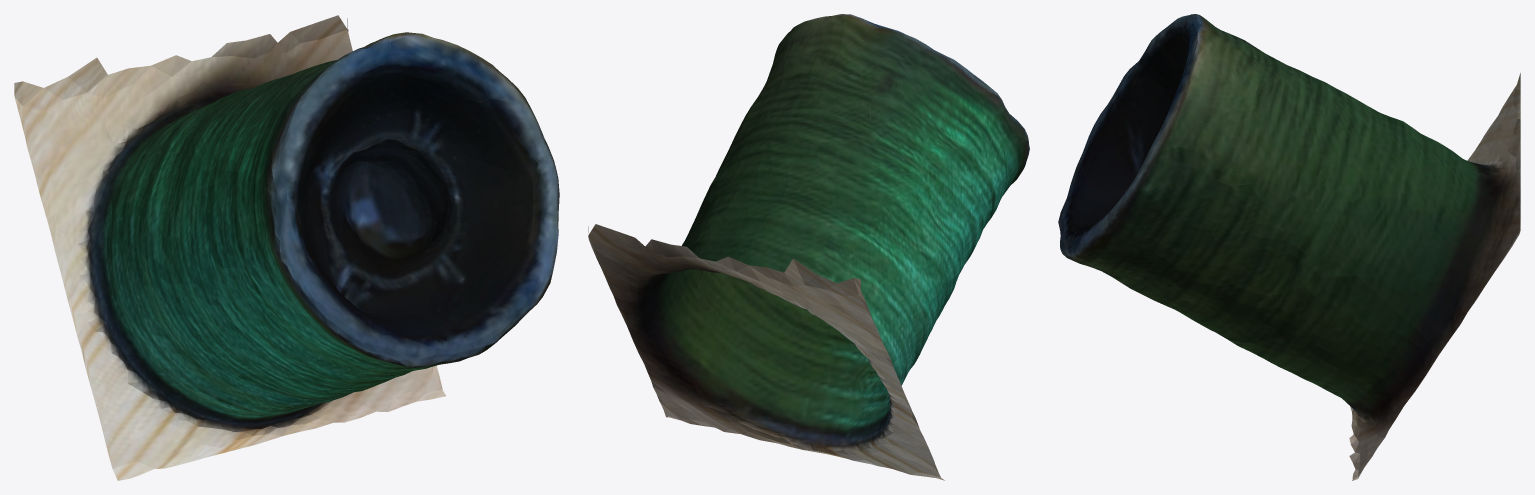
The model's file is 26 Apr 2023.obj.
3 views of the same model, side by side, from view 1: azimuth 30°, elevation 25°; view 2: azimuth 150°, elevation 25°; view 3: azimuth 270°, elevation 25° (orthographic). The views are drawn at different scales.
Bounding box in the file's own units: 0.2414 × 0.3174 × 0.3403.
Materials: 1 (1 with a texture image).
